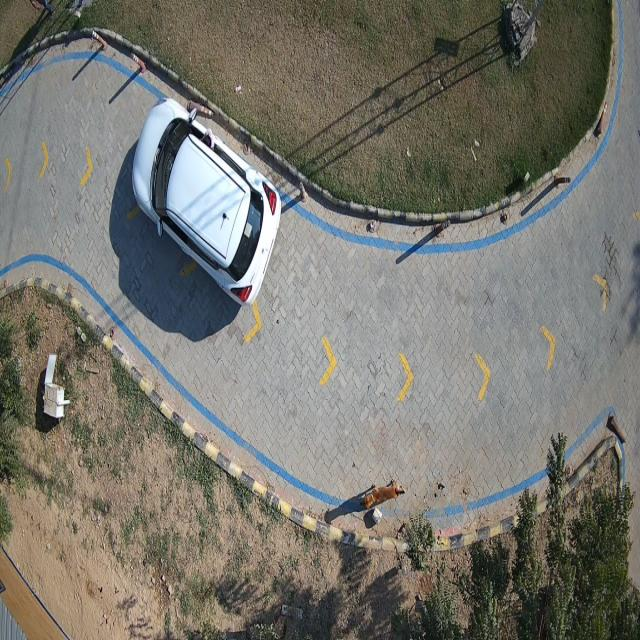car: (128, 105, 280, 312)
